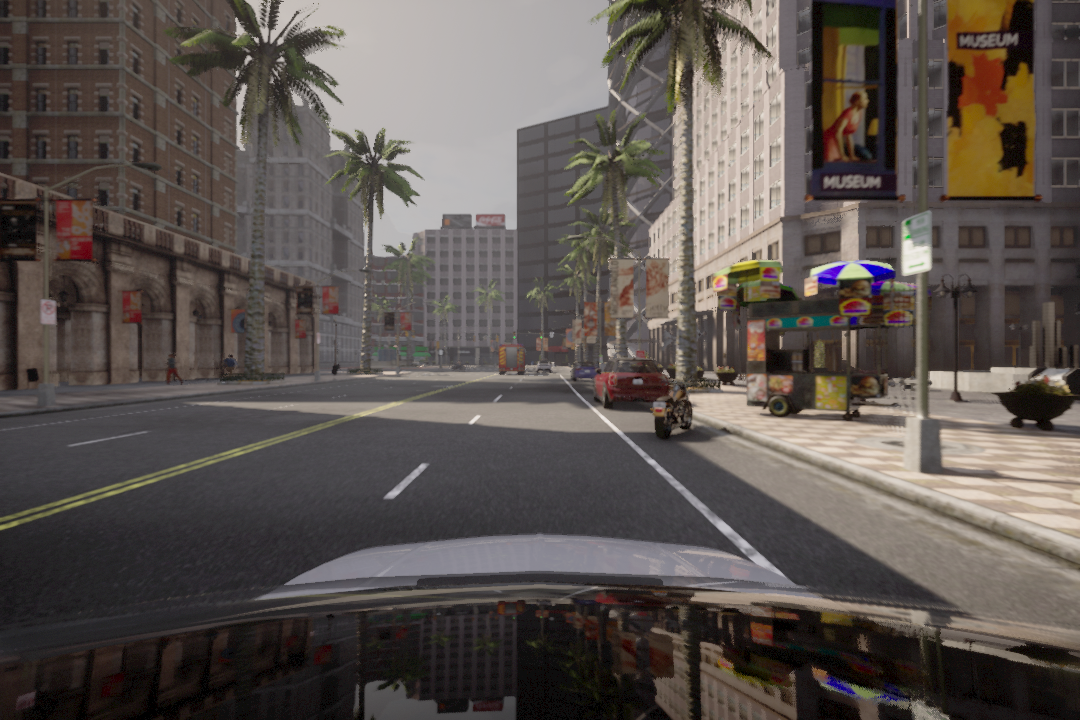TrafficSign_nstop: (39, 299, 59, 323)
